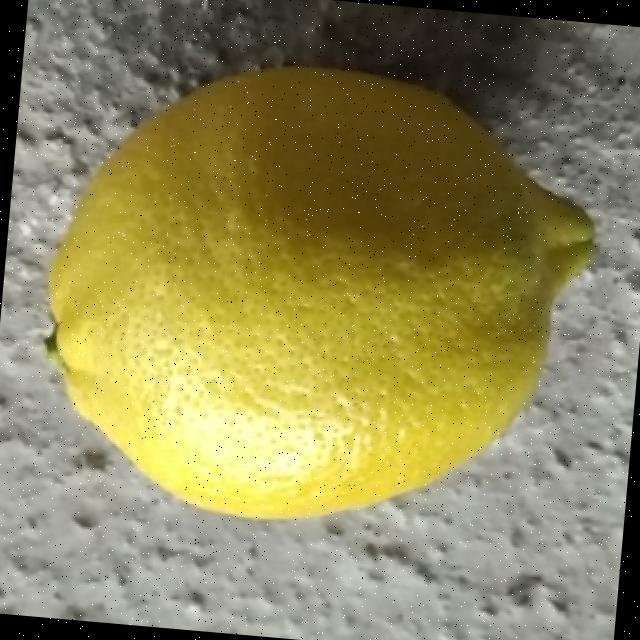Ripe: (16, 38, 612, 555)
